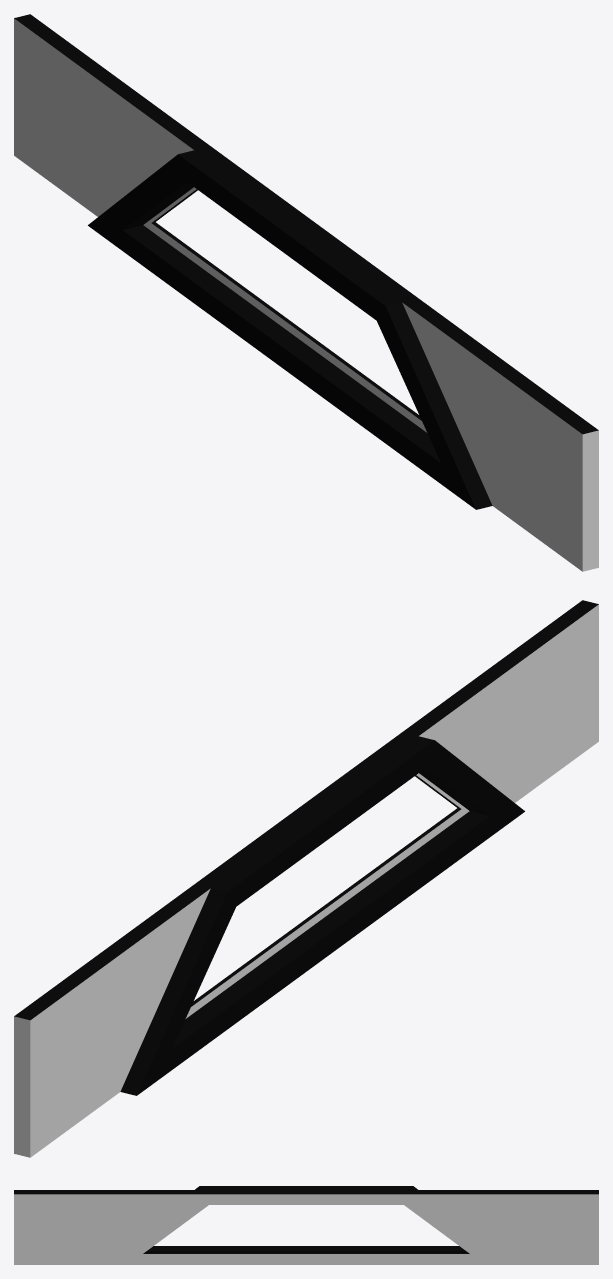
Rendered from Outside Wall.FBX.
The picture shows the model from 3 angles, top to bottom: view 1: azimuth 30°, elevation 25°; view 2: azimuth 150°, elevation 25°; view 3: azimuth 270°, elevation 25°; orthographic projection. The views are drawn at different scales.
Visible parts, largest first — view 1: Box001; view 2: Box001; view 3: Box001.
Boxes of the visible parts, x1,y1,x2,y2 form: Box001: (14, 14, 598, 571); Box001: (14, 600, 598, 1157); Box001: (14, 1186, 598, 1264).
Size of the model in its own units: 4 by 120 by 16.
